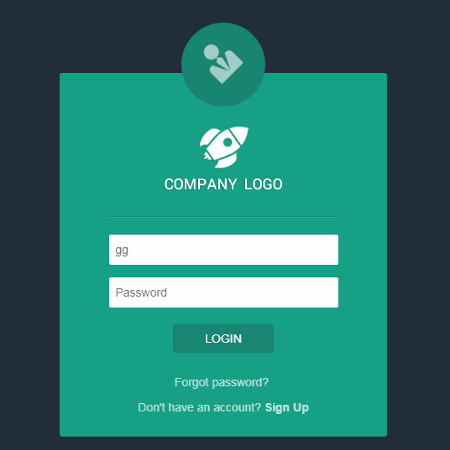_form_: (11, 34, 427, 450), (70, 9, 336, 228)
button: (171, 323, 276, 354)
field: (107, 276, 341, 310), (108, 233, 341, 265)
